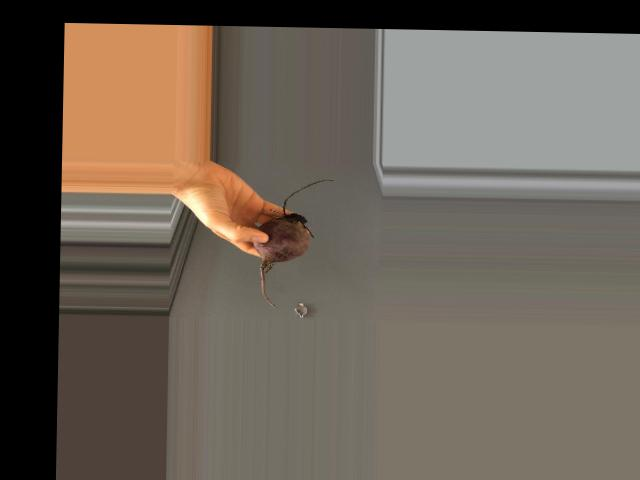beet: (251, 177, 334, 308)
